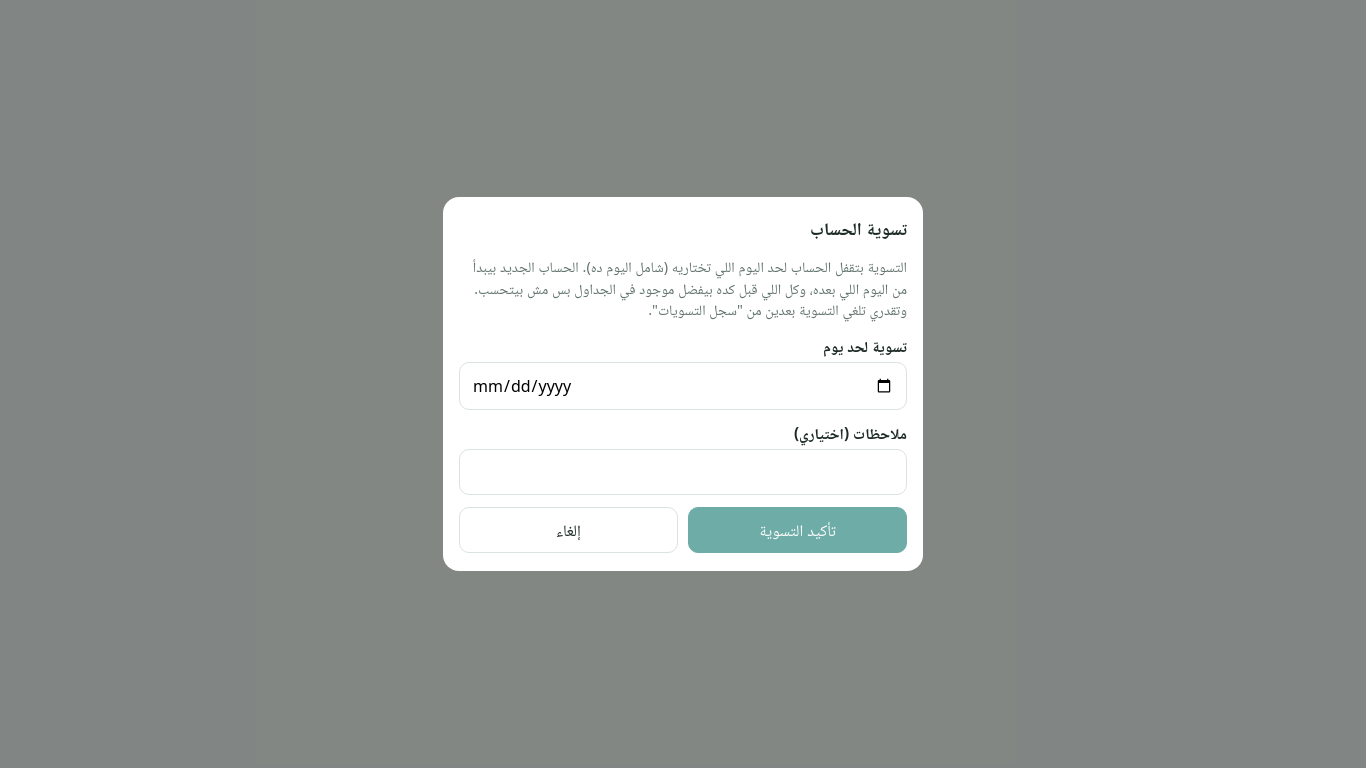
it: SettlementModal › only previews what comes after the previous settlement
Type "2026-07-31" into the date field labelled "تسوية لحد يوم" at (683, 386), box [459,362,907,410]
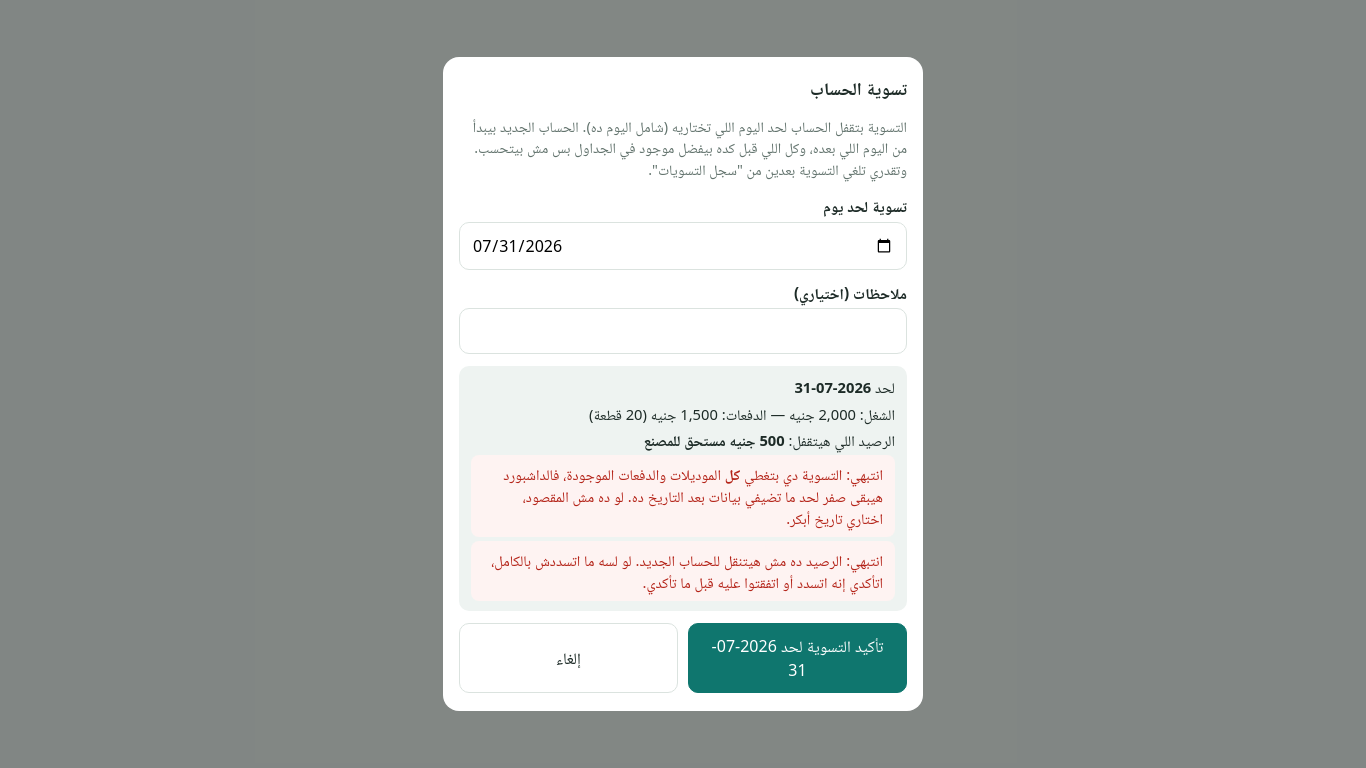
Expected: the text "الشغل: 2,000 جنيه — الدفعات: 1,500 جنيه (20 قطعة)" is shown, [589,404,895,424]
